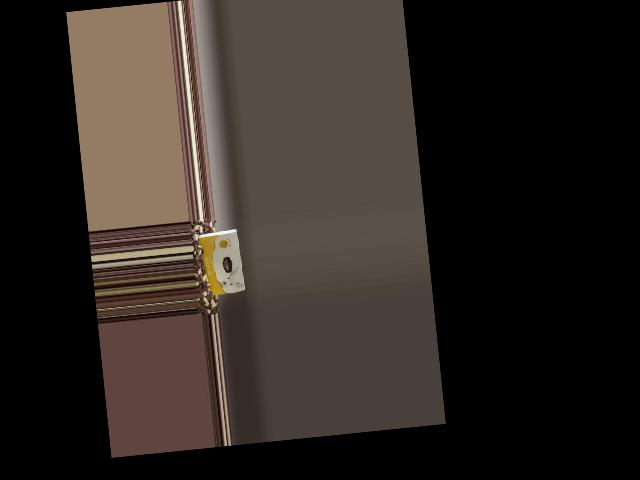chocolate: (195, 225, 247, 300)
